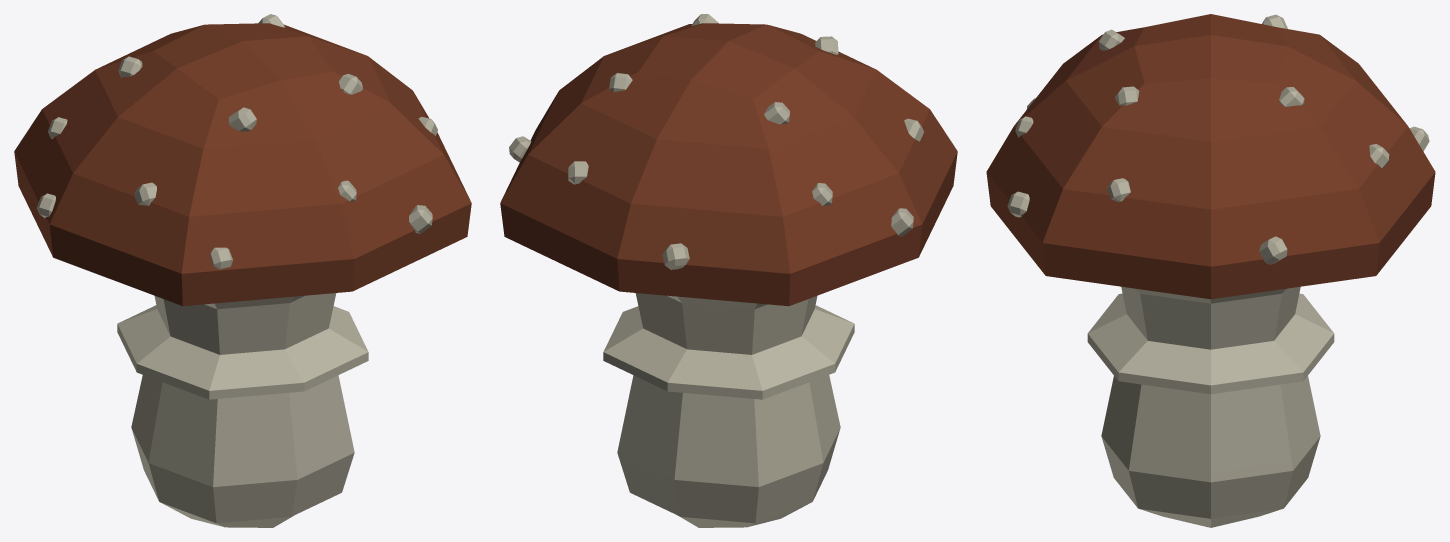
Rendered from mushroom_3.glb.
3 views of the same model, side by side, from view 1: azimuth 30°, elevation 25°; view 2: azimuth 150°, elevation 25°; view 3: azimuth 270°, elevation 25° (orthographic).
Parts seen in each view (by area): view 1: Mushroom_3; view 2: Mushroom_3; view 3: Mushroom_3.
Part boxes in pixels (x1,y1,x2,y2): Mushroom_3: (14, 14, 471, 527); Mushroom_3: (500, 14, 957, 527); Mushroom_3: (986, 14, 1435, 527).
Size of the model in its own units: 0.2449 by 0.2857 by 0.2444.
